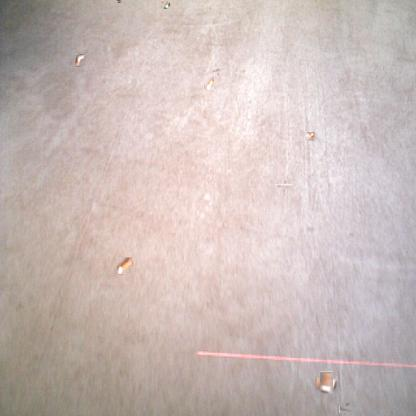dirty: (317, 374, 336, 392), (116, 256, 132, 274), (204, 76, 214, 90), (75, 54, 85, 66), (306, 130, 315, 140), (161, 0, 169, 8), (116, 1, 122, 3)
mark: (211, 64, 223, 76), (279, 181, 290, 193), (341, 404, 351, 415)
